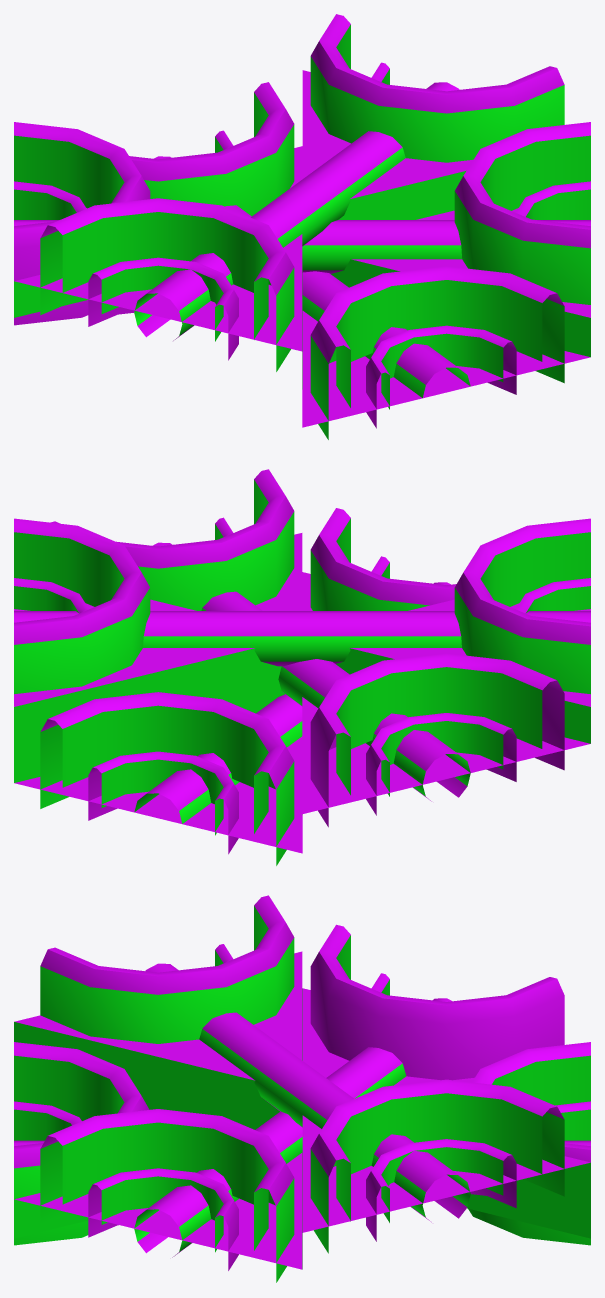
The model's file is LowerHex002.FBX.
The picture shows the model from 3 angles, top to bottom: view 1: azimuth 30°, elevation 25°; view 2: azimuth 150°, elevation 25°; view 3: azimuth 270°, elevation 25°; orthographic projection.
Parts seen in each view (by area): view 1: Object167; view 2: Object167; view 3: Object167.
Boxes of the visible parts, x1,y1,x2,y2 form: Object167: (14,14,590,439); Object167: (14,469,590,865); Object167: (14,895,590,1282).
Size of the model in its own units: 250 by 217 by 66.28.
